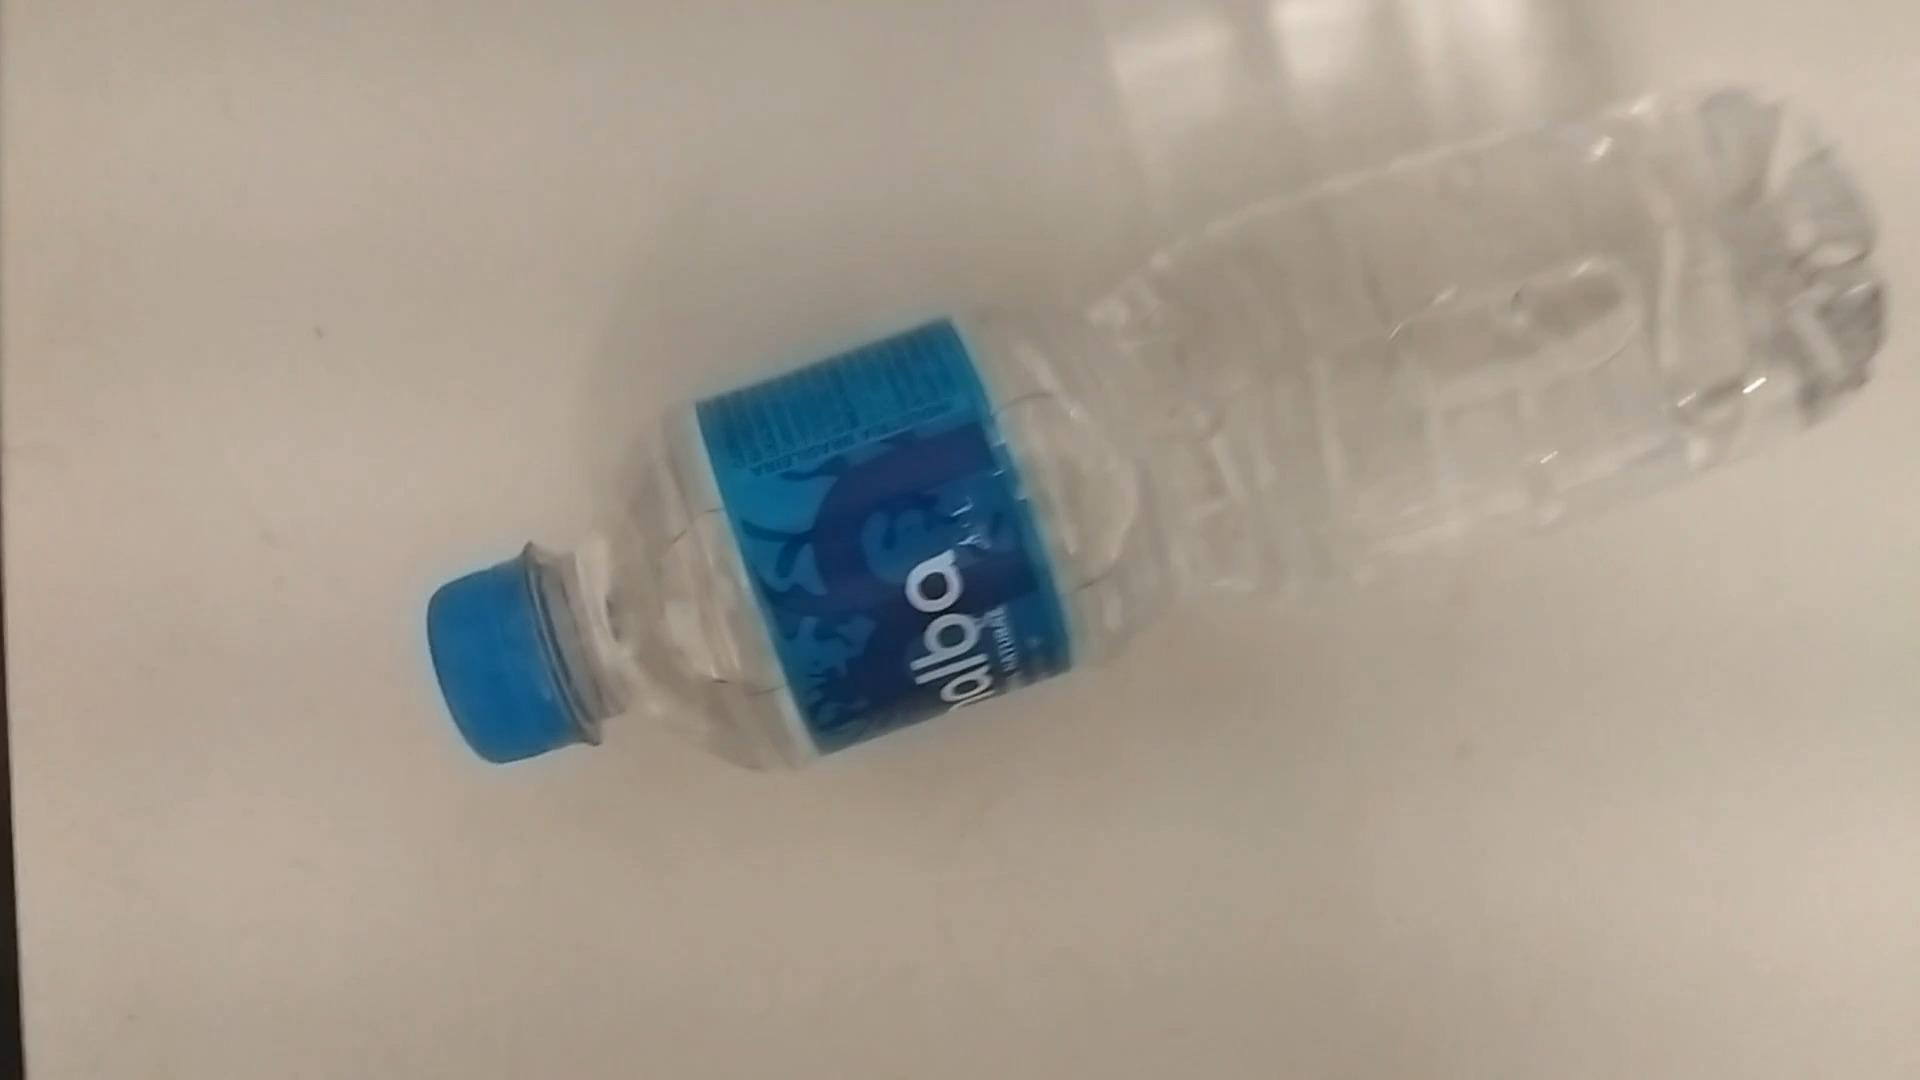agua: (444, 66, 1873, 779)
